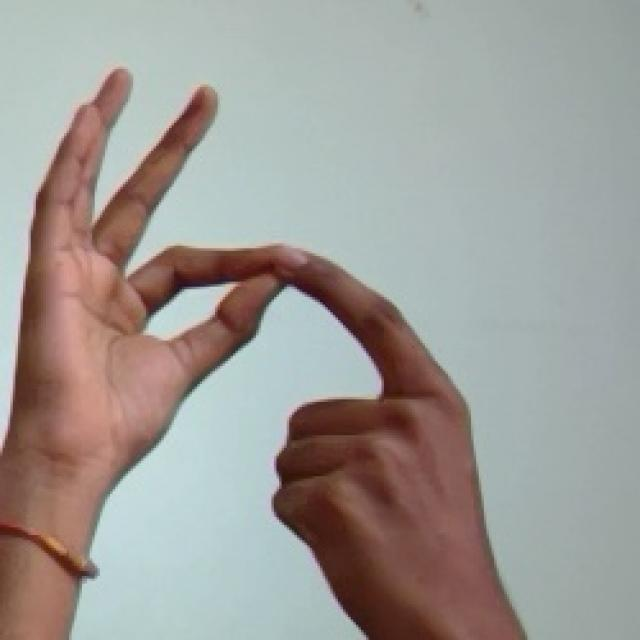Alphabet-P: (10, 10, 499, 640)
